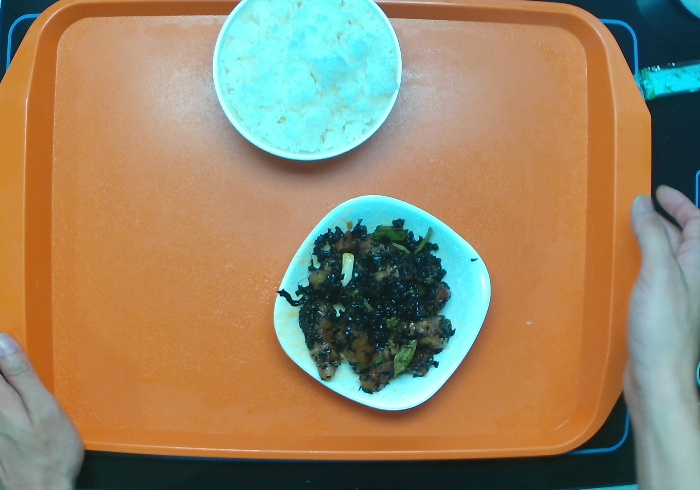ZNLD-Fan_Wan: (209, 1, 403, 165)
ZNLD-Si_Fang_Wan: (270, 192, 493, 415)
